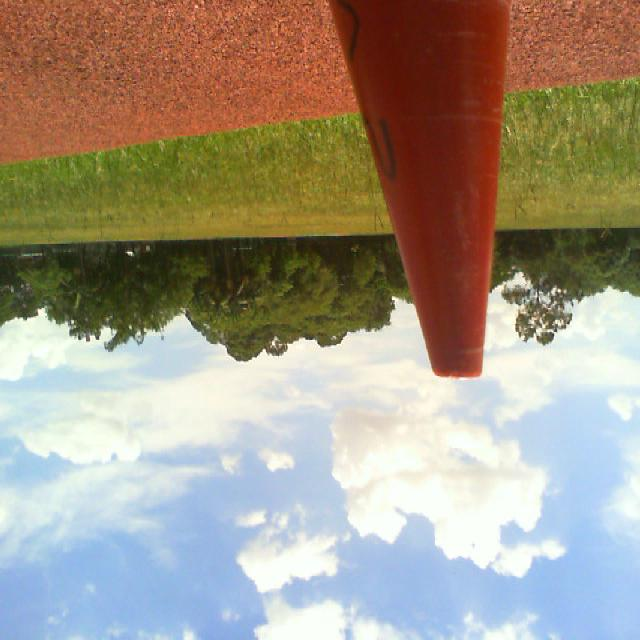cone: (328, 0, 513, 378)
